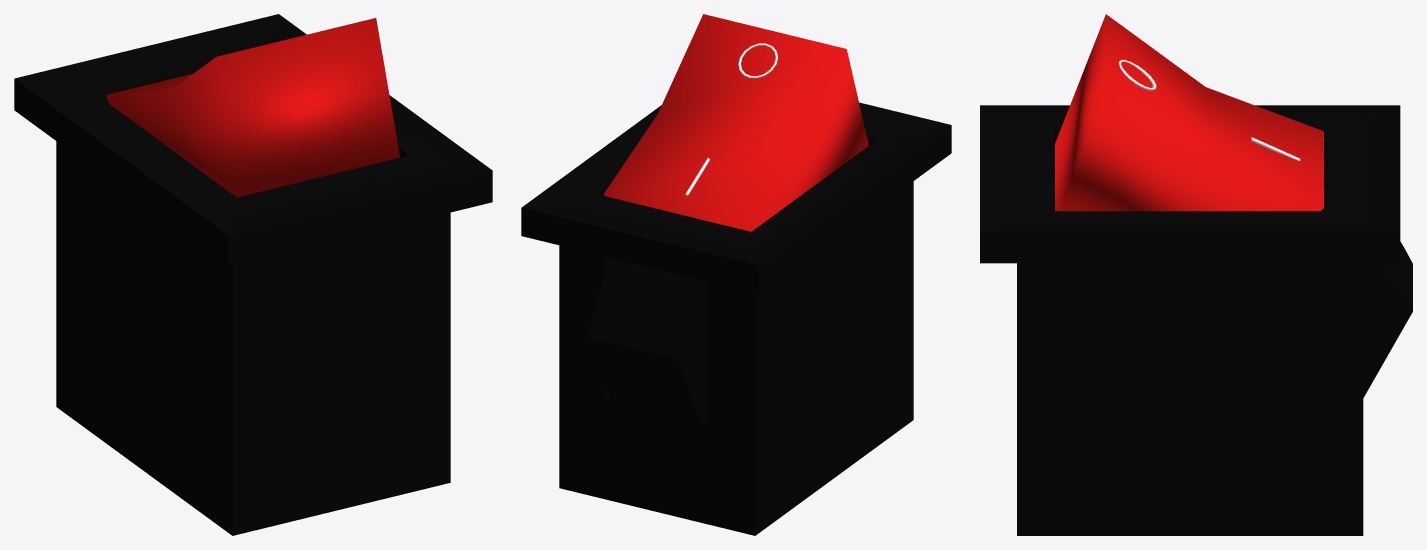
Rendered from SwitchWithSmoothnes.fbx.
The picture shows the model from 3 angles, left to right: view 1: azimuth 30°, elevation 25°; view 2: azimuth 150°, elevation 25°; view 3: azimuth 270°, elevation 25°; orthographic projection. The views are drawn at different scales.
Parts seen in each view (by area): view 1: switch base, switch key; view 2: switch base, switch key; view 3: switch base, switch key.
Part boxes in pixels (x1,y1,x2,y2): switch base: (14, 14, 492, 535); switch key: (105, 18, 399, 197); switch base: (521, 102, 951, 535); switch key: (603, 14, 868, 231); switch base: (980, 105, 1412, 535); switch key: (1055, 14, 1323, 211).
Bounding box in the file's own units: 12.14 × 19.24 × 17.5.
